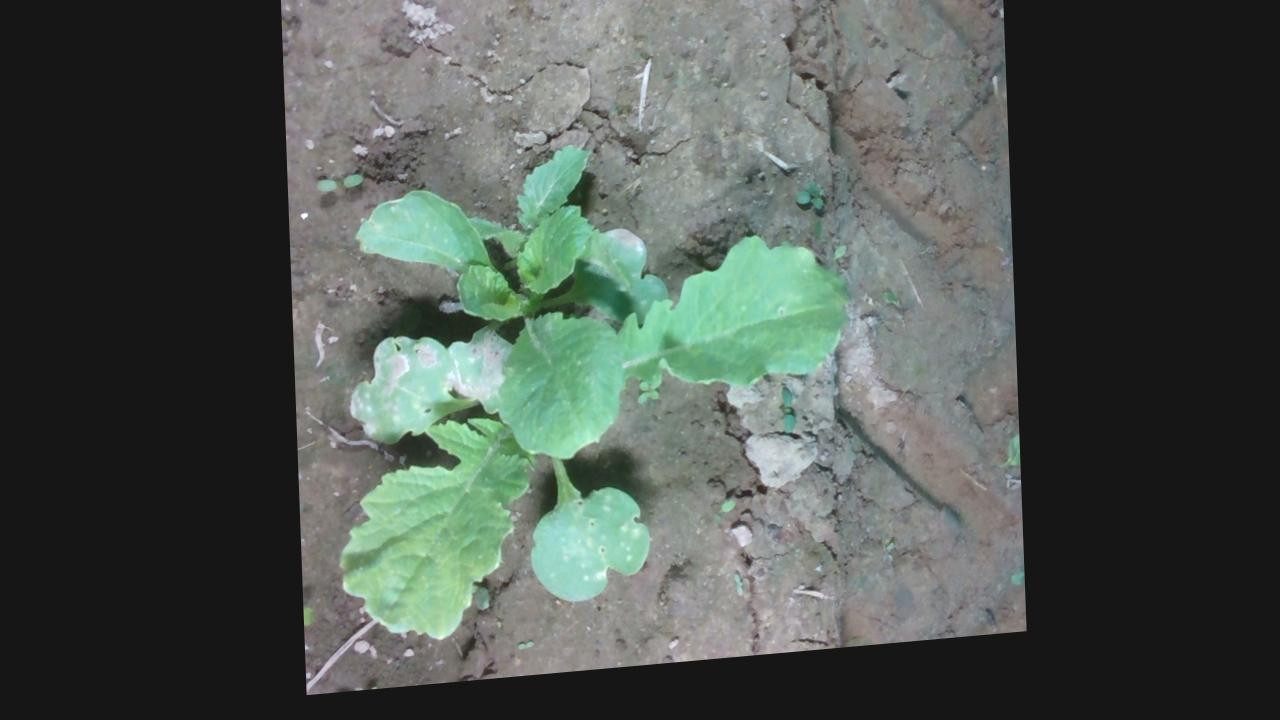weed: (311, 179, 362, 201), (726, 586, 739, 612), (510, 649, 528, 661)
